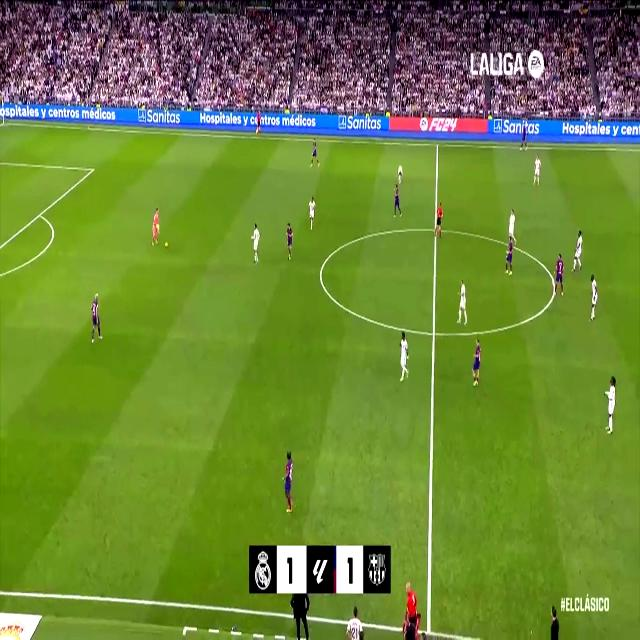bigarea_top_inner: (89, 162, 95, 176)
corner: (0, 118, 7, 128)
halfcircle_bottom: (428, 320, 440, 346)
midline_bottom_intersection: (422, 619, 435, 636)
midline_top_intersection: (435, 138, 441, 151)
top_arc_area_intersection: (36, 206, 44, 221)
